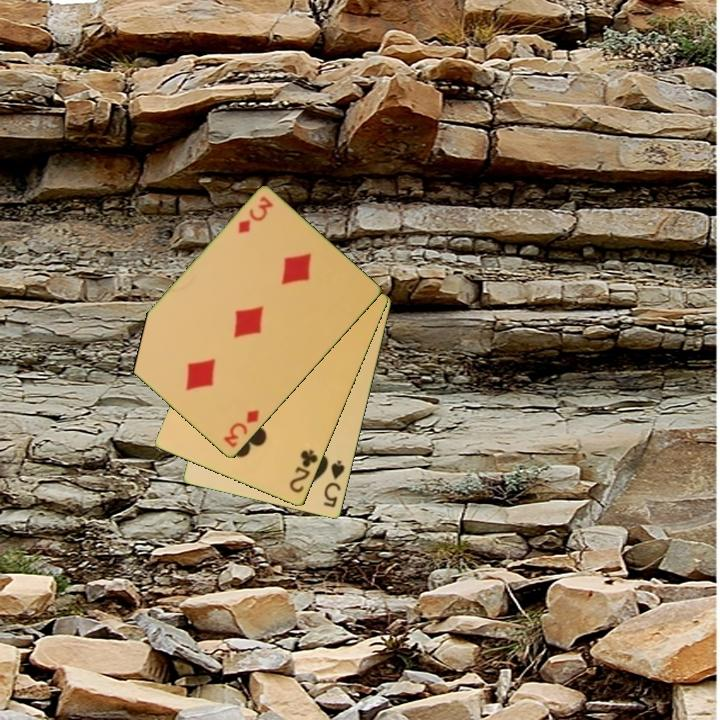2c: (286, 446, 321, 496)
3d: (220, 406, 262, 451), (235, 193, 277, 237)
5s: (320, 457, 348, 511)
